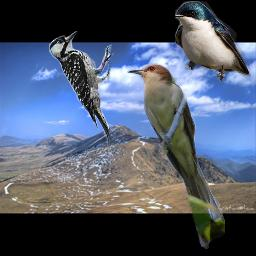Cuckoo: (127, 63, 225, 249)
Swallow: (175, 1, 251, 82)
Woodpecker: (48, 31, 114, 148)
